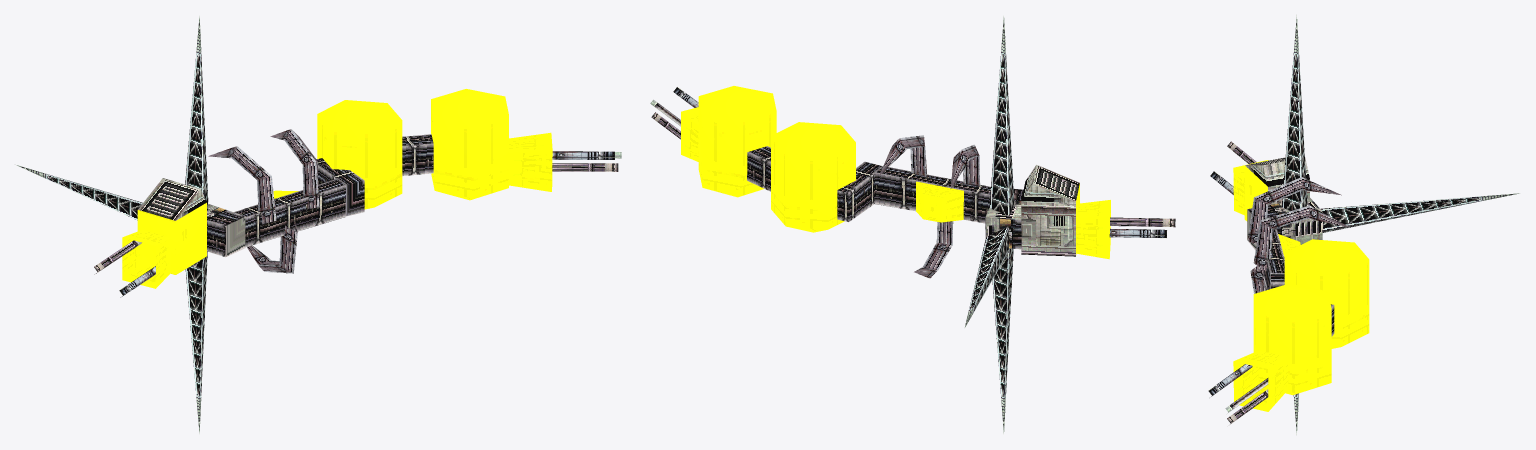
File: seutromill_cmp.gltf
3 views of the same model, side by side, from view 1: azimuth 30°, elevation 25°; view 2: azimuth 150°, elevation 25°; view 3: azimuth 270°, elevation 25° (orthographic).
Parts seen in each view (by area): view 1: Root, claw02, claw01, connect_L2, claw03, connect_R2; view 2: Root, Repair Base, connect_R2, claw01, claw03, claw02, connect_L2; view 3: Root, claw01, claw02, connect_L2, connect_R2, claw03.
Boxes of the visible parts, x1,y1,x2,y2 form: Root: [15, 16, 552, 433]; claw02: [208, 146, 276, 224]; claw01: [270, 129, 319, 208]; connect_L2: [552, 151, 621, 171]; claw03: [247, 222, 297, 273]; connect_R2: [94, 240, 155, 297]; Root: [681, 16, 1110, 433]; Repair Base: [916, 181, 963, 222]; connect_R2: [1109, 217, 1175, 238]; claw01: [879, 135, 926, 176]; claw03: [914, 221, 953, 278]; claw02: [950, 144, 980, 188]; connect_L2: [650, 87, 698, 139]; Root: [1233, 15, 1519, 434]; claw01: [1253, 205, 1350, 271]; claw02: [1247, 177, 1341, 244]; connect_L2: [1208, 364, 1268, 424]; connect_R2: [1210, 141, 1256, 194]; claw03: [1250, 266, 1266, 293].
Size of the model in its own units: 31.25 by 23.84 by 16.27.
Materials: 12 (12 with a texture image).
